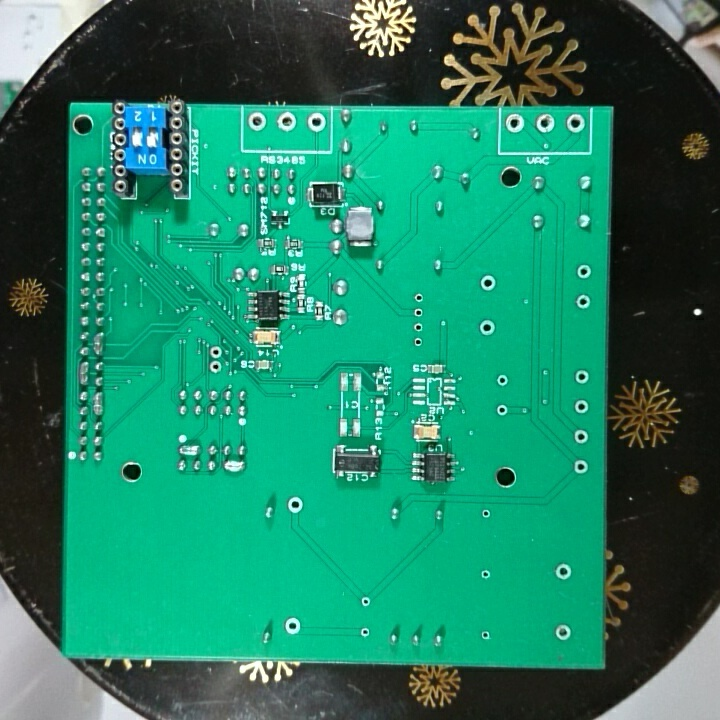F: (563, 111, 587, 135), (534, 110, 557, 135), (245, 109, 269, 132), (505, 112, 528, 136), (275, 109, 299, 131), (304, 111, 327, 133), (478, 272, 498, 295), (285, 493, 305, 515), (477, 317, 497, 338), (574, 291, 593, 313), (282, 615, 302, 635), (554, 560, 571, 582), (571, 457, 590, 476), (572, 397, 590, 417), (553, 623, 571, 642), (574, 366, 591, 386), (493, 371, 509, 390), (208, 343, 225, 360), (572, 427, 588, 445), (478, 505, 494, 522), (575, 263, 590, 281), (410, 332, 425, 350), (411, 304, 427, 320), (358, 592, 373, 609), (357, 625, 372, 641), (411, 289, 426, 305), (208, 359, 223, 375), (477, 566, 491, 583), (494, 402, 508, 419), (411, 319, 426, 334), (478, 628, 492, 642)
P: (177, 440, 203, 460), (222, 457, 247, 476), (90, 389, 106, 417), (77, 359, 91, 387), (91, 331, 105, 358)
